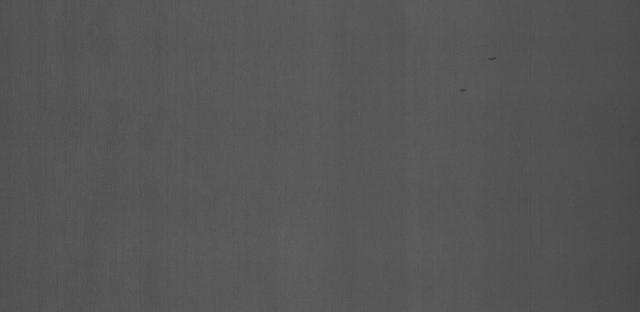inclusion: (476, 45, 505, 62), (448, 77, 474, 95)
